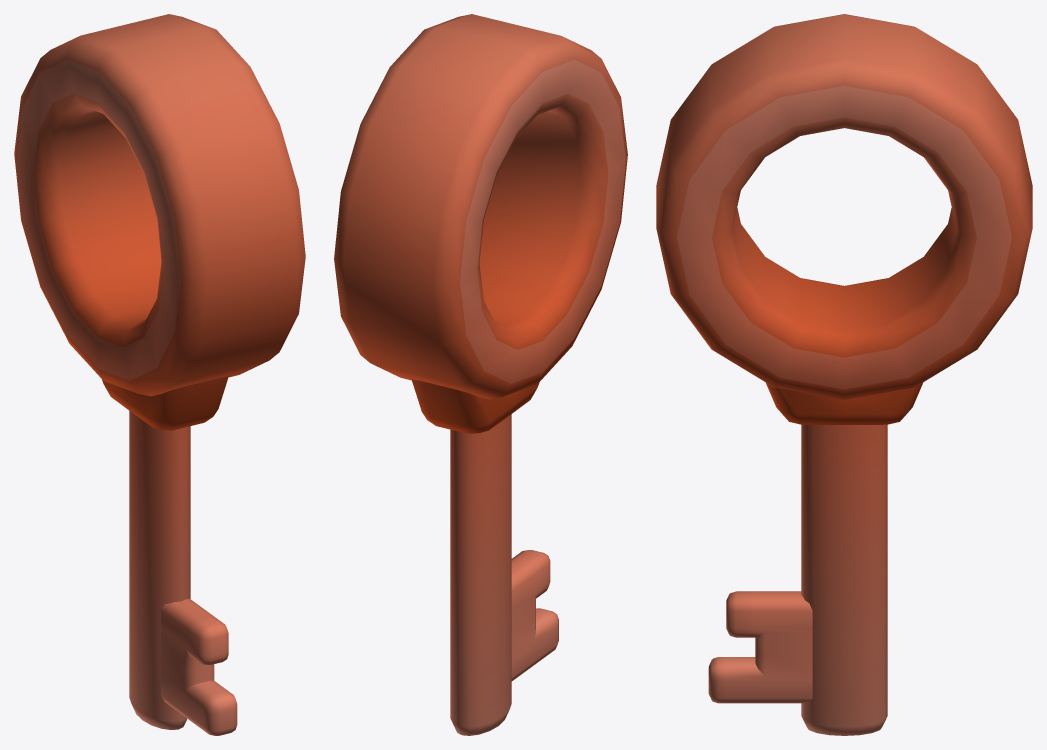
The model's file is Key_V3_00.fbx.
3 views of the same model, side by side, from view 1: azimuth 30°, elevation 25°; view 2: azimuth 150°, elevation 25°; view 3: azimuth 270°, elevation 25° (orthographic).
Visible parts, largest first — view 1: Key_V3_00; view 2: Key_V3_00; view 3: Key_V3_00.
Boxes of the visible parts, x1,y1,x2,y2 form: Key_V3_00: (14, 14, 305, 735); Key_V3_00: (334, 14, 627, 735); Key_V3_00: (656, 14, 1032, 735).
Size of the model in its own units: 7.32 by 38.84 by 19.04.
